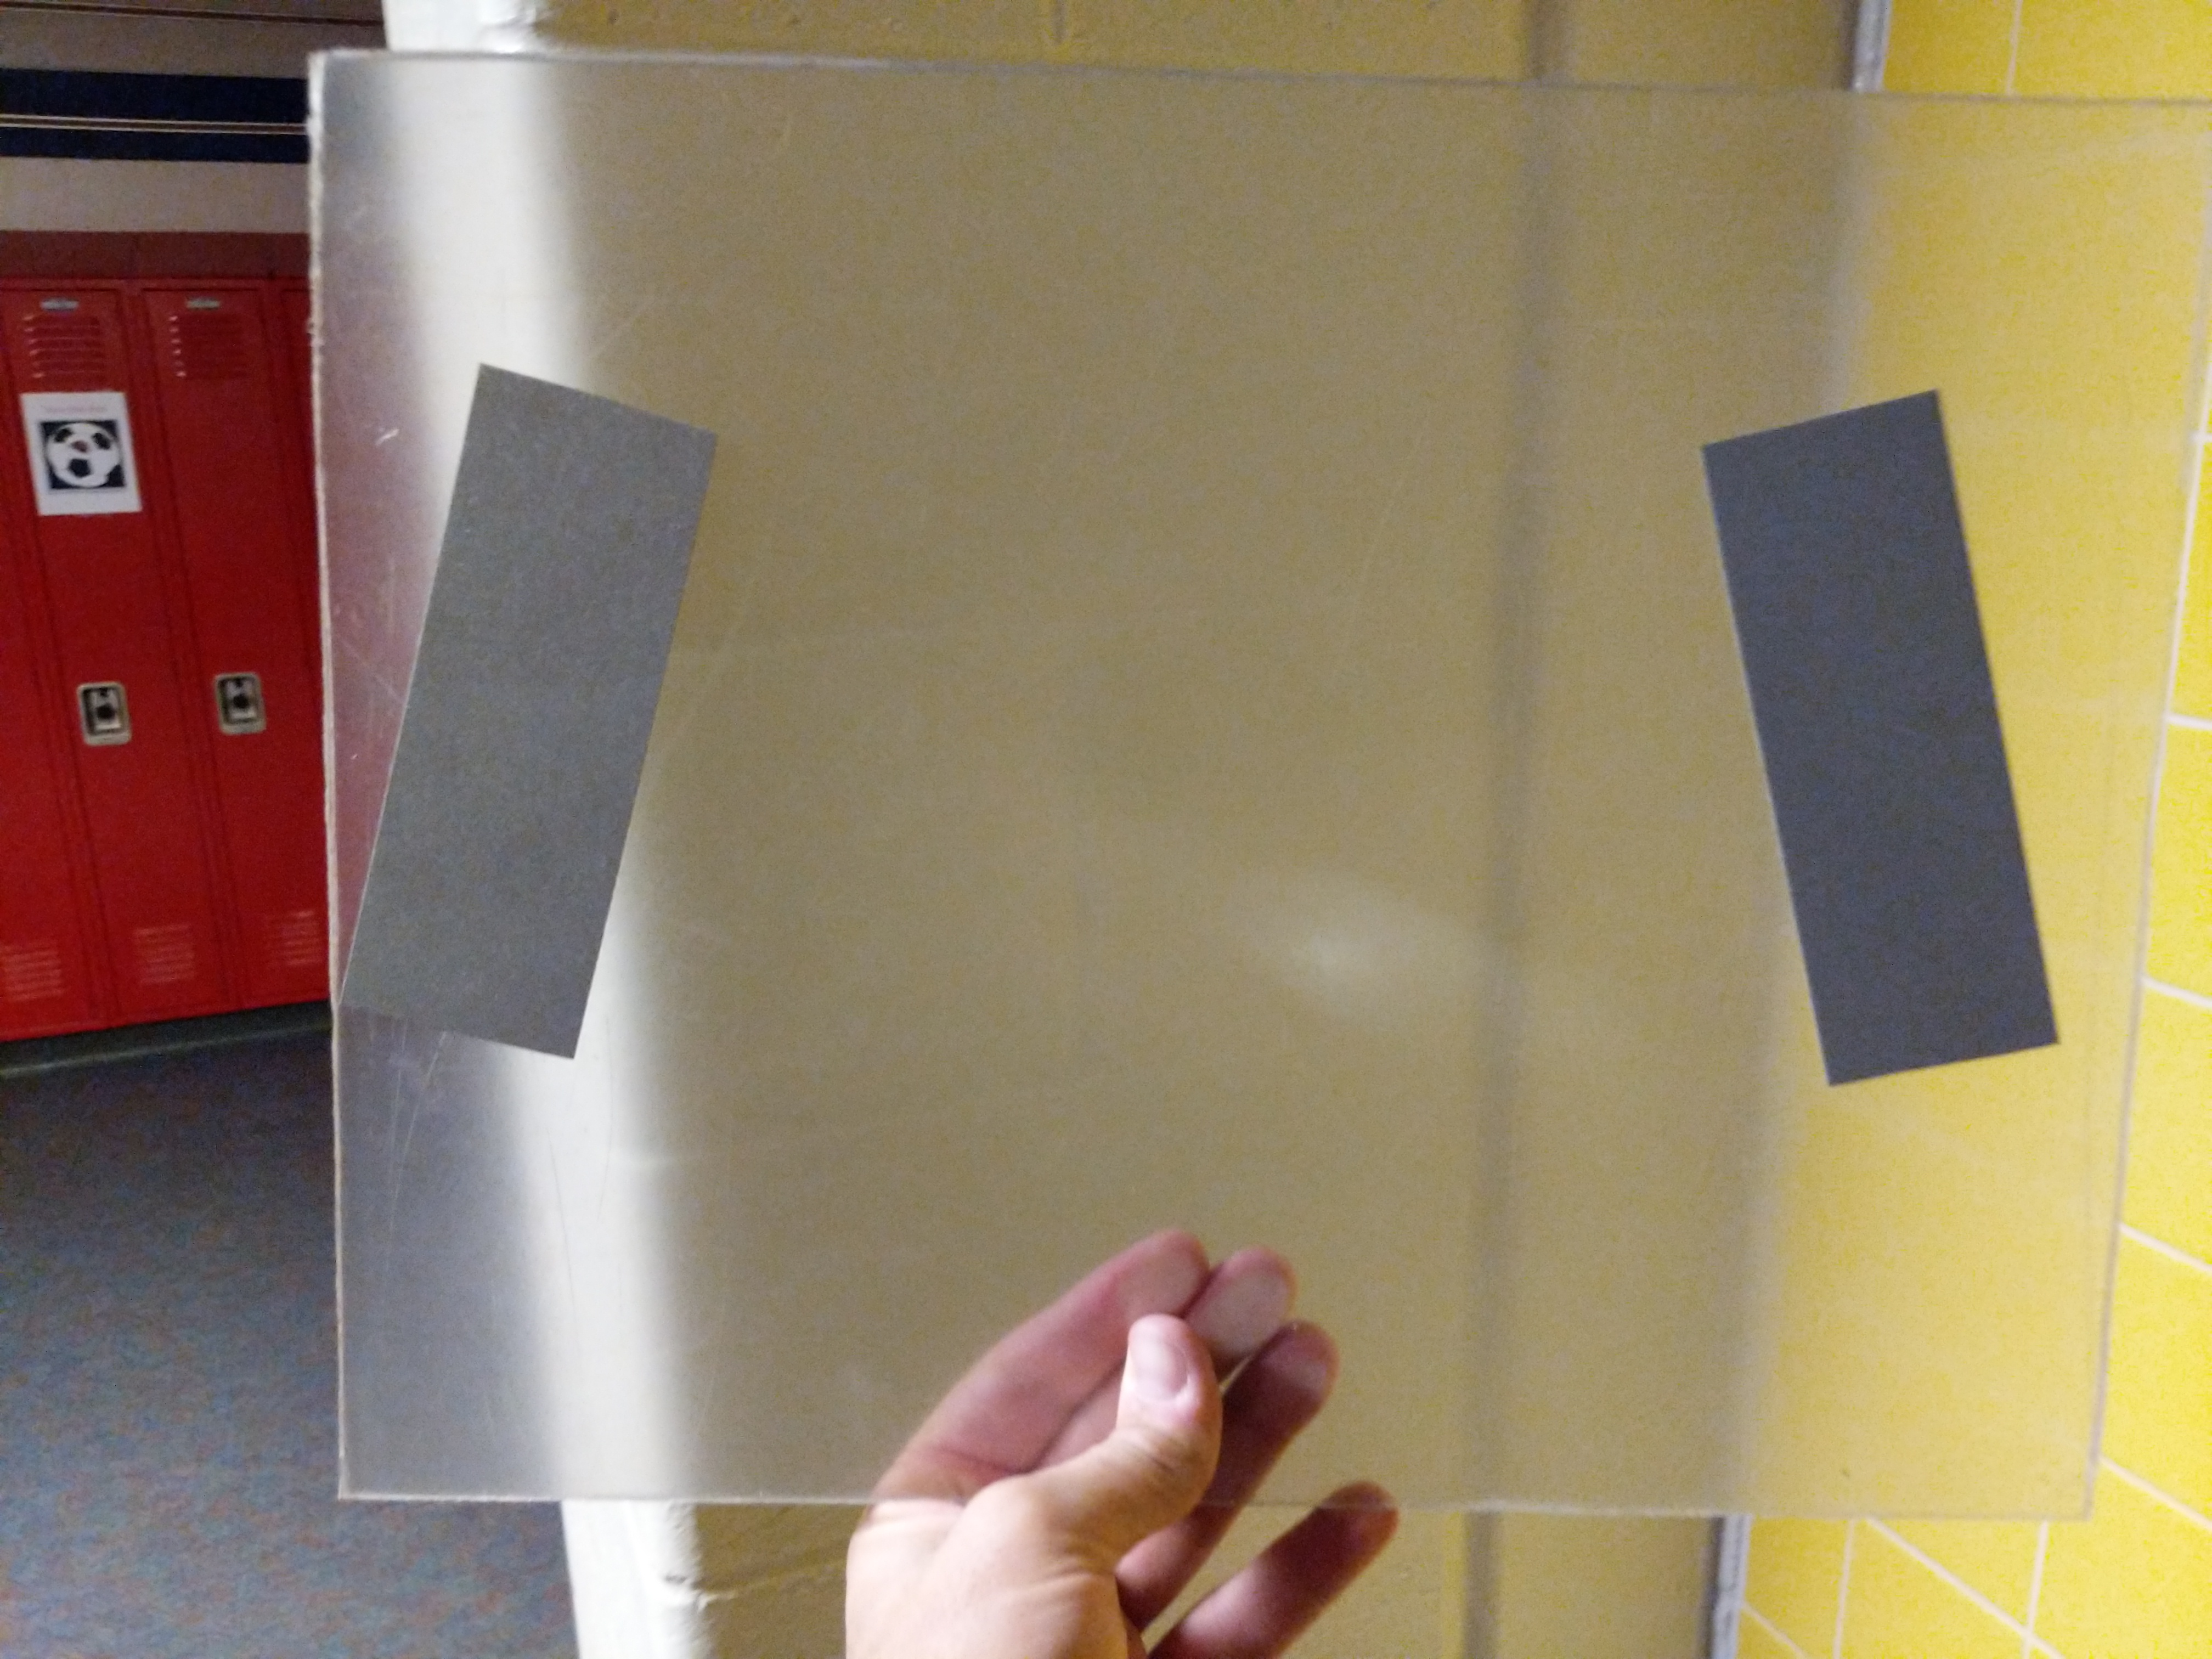vision_target: (324, 345, 2087, 1093)
